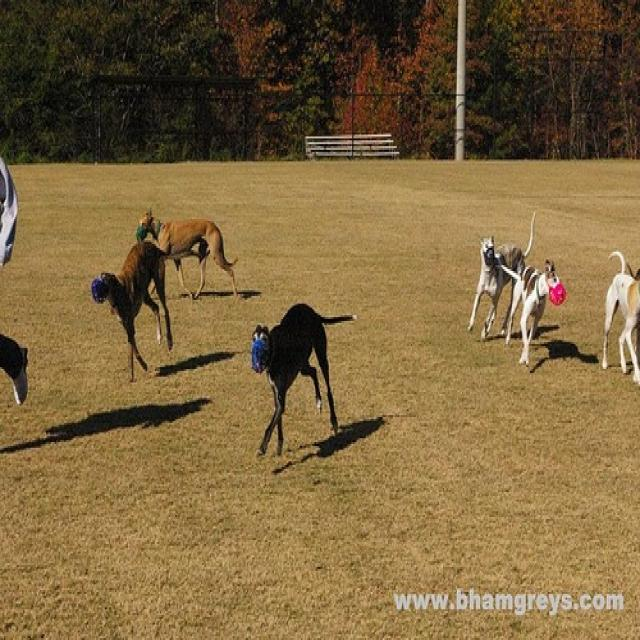dog: (248, 304, 354, 461), (91, 238, 175, 382), (468, 210, 536, 354), (136, 209, 238, 302), (506, 260, 562, 367), (600, 248, 639, 386)
